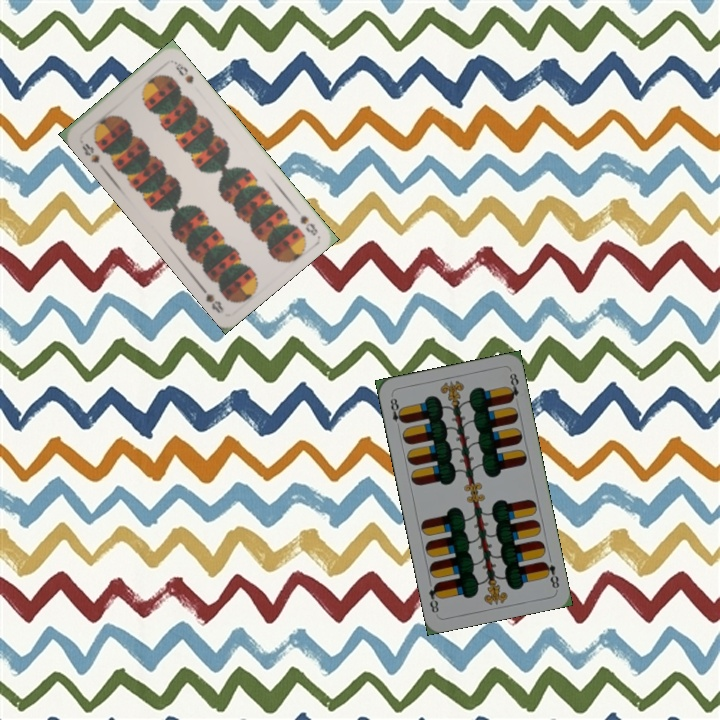E8: (386, 392, 407, 432), (539, 558, 562, 591)
S8: (296, 211, 321, 238), (78, 139, 102, 165)
